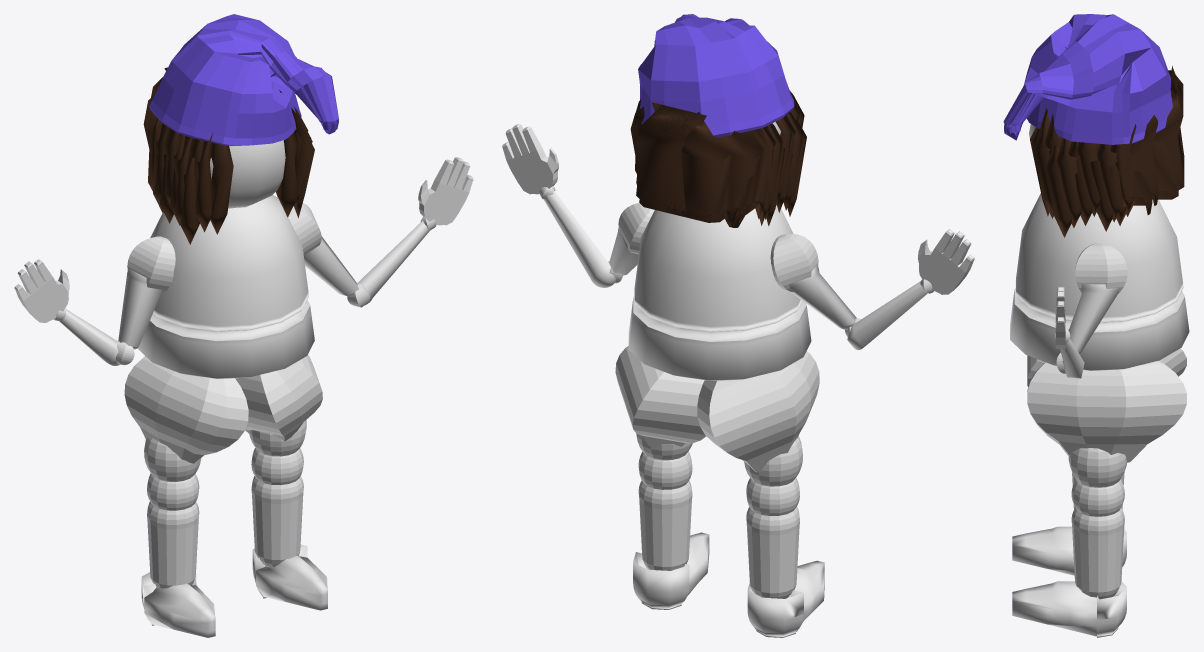
File: Character.fbx
3 views of the same model, side by side, from view 1: azimuth 30°, elevation 25°; view 2: azimuth 150°, elevation 25°; view 3: azimuth 270°, elevation 25° (orthographic). The views are drawn at different scales.
Parts seen in each view (by area): view 1: Esfera.003, Cilindro, Círculo, Cubo, Sphere, Cubo.002, Esfera.002, Cubo.001, Cabeza, Esfera.001, Esfera.005, Esfera.004; view 2: Esfera.003, Cilindro, Cubo.001, Círculo, Sphere, Cubo.002, Esfera.005, Esfera.001, Cubo, Esfera.002; view 3: Cilindro, Esfera.003, Círculo, Cubo.001, Sphere, Cubo, Esfera.001, Esfera.002, Cubo.002, Esfera.005.
Part boxes in pixels (<box>): Esfera.003: <box>124,355,322,588</box>; Cilindro: <box>137,195,314,378</box>; Círculo: <box>149,14,338,145</box>; Cubo: <box>153,107,314,244</box>; Sphere: <box>141,544,327,637</box>; Cubo.002: <box>14,157,473,322</box>; Esfera.002: <box>118,236,358,349</box>; Cubo.001: <box>143,67,311,223</box>; Cabeza: <box>210,140,285,208</box>; Esfera.001: <box>127,203,321,292</box>; Esfera.005: <box>59,220,429,365</box>; Esfera.004: <box>116,284,369,365</box>; Esfera.003: <box>615,346,819,598</box>; Cilindro: <box>628,205,811,380</box>; Cubo.001: <box>630,99,802,220</box>; Círculo: <box>638,14,794,137</box>; Sphere: <box>633,532,824,637</box>; Cubo.002: <box>502,124,974,294</box>; Esfera.005: <box>544,190,927,349</box>; Esfera.001: <box>618,203,818,292</box>; Cubo: <box>639,91,806,227</box>; Esfera.002: <box>609,228,856,329</box>; Cilindro: <box>1010,193,1189,370</box>; Esfera.003: <box>1027,348,1186,599</box>; Círculo: <box>1003,14,1172,144</box>; Cubo.001: <box>1045,66,1184,227</box>; Sphere: <box>1012,526,1126,637</box>; Cubo: <box>1030,107,1178,237</box>; Esfera.001: <box>1075,243,1127,293</box>; Esfera.002: <box>1068,284,1119,354</box>; Cubo.002: <box>1055,287,1065,348</box>; Esfera.005: <box>1060,339,1084,378</box>.
Bounding box in the file's own units: 579 × 699 × 202.
